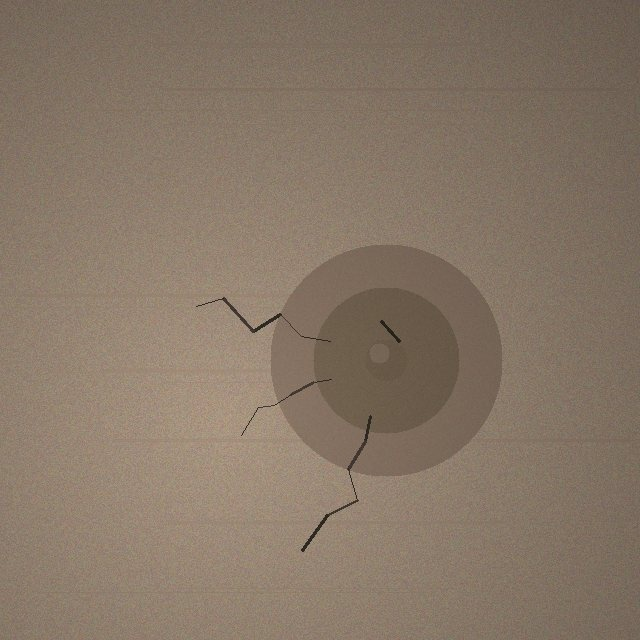crack: (270, 244, 502, 476)
